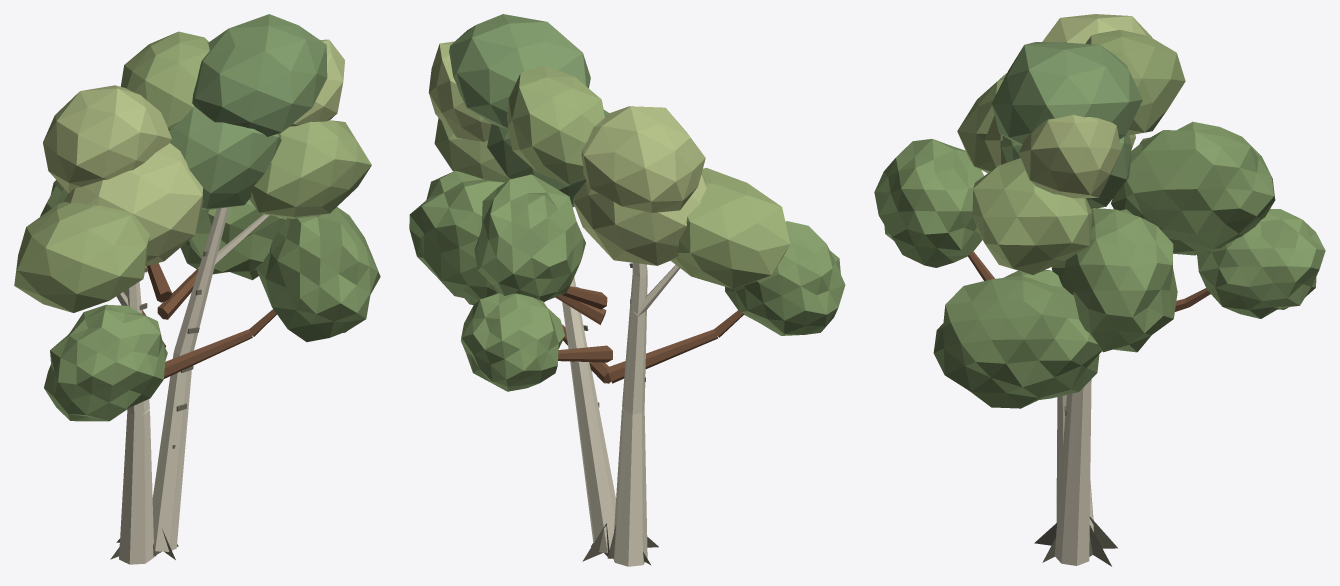
File: birch_1.glb
The picture shows the model from 3 angles, left to right: view 1: azimuth 30°, elevation 25°; view 2: azimuth 150°, elevation 25°; view 3: azimuth 270°, elevation 25°; orthographic projection. The views are drawn at different scales.
Parts seen in each view (by area): view 1: foliage-0, foliage-2, foliage-1, surface; view 2: foliage-2, foliage-0, foliage-1, surface; view 3: foliage-0, foliage-2, foliage-1, surface.
Part boxes in pixels (x1,y1,x2,y2): foliage-0: (14,31,380,341); foliage-2: (44,14,327,421); foliage-1: (40,39,344,266); surface: (110,207,276,564); foliage-2: (449,14,845,335); foliage-0: (409,65,790,305); foliage-1: (428,41,706,391); surface: (555,263,743,566); foliage-0: (933,30,1185,408); foliage-2: (874,42,1275,267); foliage-1: (984,14,1325,318); surface: (968,251,1210,566).
Size of the model in its own units: 5.59 by 7.63 by 5.45.
